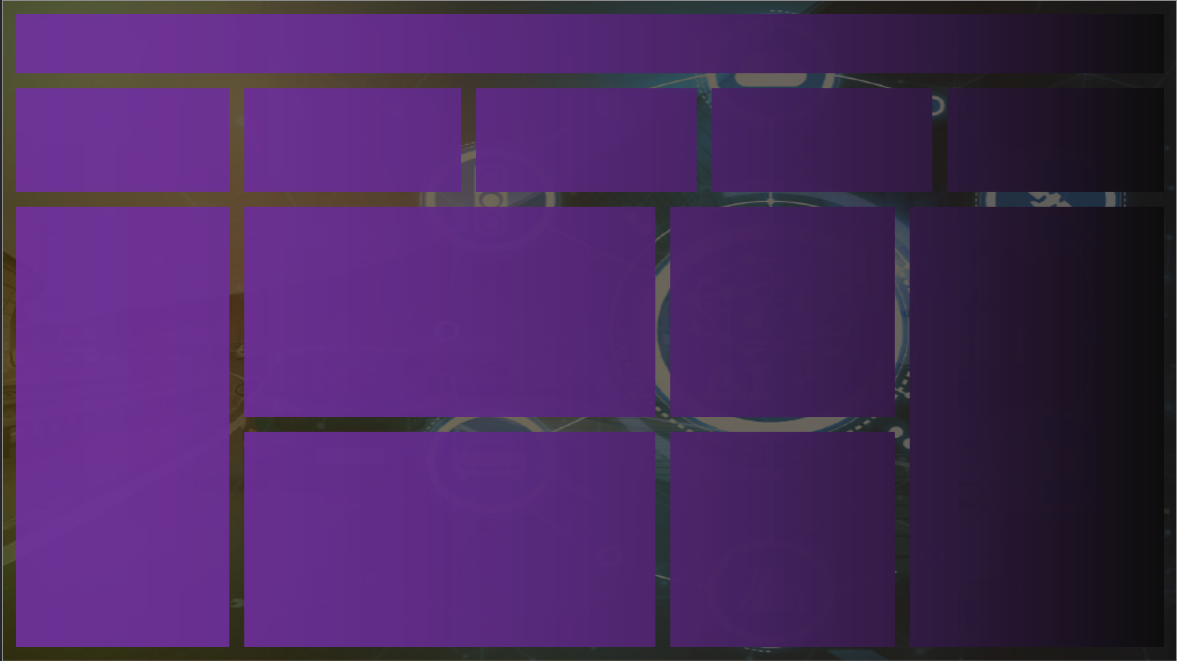

What the dashboard file says about the page in this screenshot:
{"tool":"powerbi","page":{"name":"Page 1","canvas":[1280,720],"ordinal":0},"visuals":[{"type":"card","title":"CY Slight Casualities","fields":{"Values":["Sheet1.CY Casualities"]},"box":[995.3,117.7,217.5,70],"z":0,"group":"g5"},{"type":"card","title":"CY Serious Casualities","fields":{"Values":["Sheet1.CY Casualities"]},"box":[759.5,118.2,217.5,70],"z":0,"group":"g4"},{"type":"group","id":"g1","title":"Group 1","box":[63.8,118.8,217.5,107.5],"z":0},{"type":"card","title":"Total CY Casualities","fields":{"Values":["Sheet1.CY Casualities"]},"box":[63.8,118.8,217.5,70],"z":0,"group":"g1"},{"type":"card","title":"Total CY Accidents","fields":{"Values":["Sheet1.CY accidents"]},"box":[292.4,118.8,217.5,70],"z":0,"group":"g2"},{"type":"card","title":"CY Fatal Casualities","fields":{"Values":["Sheet1.CY Casualities"]},"box":[531.1,118.8,217.5,70],"z":0,"group":"g3"},{"type":"group","id":"g2","title":"Group 1","box":[292.4,118.8,217.5,107.5],"z":1000},{"type":"card","fields":{"Values":["Sheet1.YOY Casualities"]},"box":[1051.5,181.5,100,43.8],"z":1000,"group":"g5"},{"type":"card","fields":{"Values":["Sheet1.YOY Casualities"]},"box":[815.7,182,100,43.8],"z":1000,"group":"g4"},{"type":"card","fields":{"Values":["Sheet1.YOY Casualities"]},"box":[120,182.6,100,43.8],"z":1000,"group":"g1"},{"type":"card","fields":{"Values":["Sheet1.YOY Accidents"]},"box":[348.6,182.6,100,43.8],"z":1000,"group":"g2"},{"type":"card","fields":{"Values":["Sheet1.YOY Casualities"]},"box":[587.3,182.6,100,43.8],"z":1000,"group":"g3"},{"type":"group","id":"g3","title":"Group 1","box":[531.1,118.8,217.7,107.8],"z":2000},{"type":"group","id":"g4","title":"Group 1","box":[759.5,118.2,218.5,108],"z":3000},{"type":"group","id":"g5","title":"Group 1","box":[995.3,117.7,217.4,107.6],"z":4000},{"type":"multiRowCard","fields":{"Values":["Sheet1.Vehicle_Type (groups)","Sheet1.CY Casualities"]},"box":[154,274.9,154,428.9],"z":5000},{"type":"image","box":[77,608.1,83.6,69.3],"z":6000},{"type":"image","box":[81.4,280.4,71.5,61.6],"z":7000},{"type":"image","box":[84.7,553.1,69.3,50.6],"z":8000},{"type":"image","box":[75.9,484.9,84.7,66],"z":9000},{"type":"image","box":[71.5,408,91.3,75.9],"z":10000},{"type":"image","box":[84.7,350.8,66,53.9],"z":11000},{"type":"textbox","box":[63.8,237.5,217.7,37.4],"z":12000},{"type":"areaChart","title":"CY Casualties & PY Casualties Montly Trend","fields":{"Category":["Calender.Month"],"Y":["Sum(Sheet1.Number_of_Casualties)"],"Series":["Calender.Date.Variation.Date Hierarchy.Year"]},"box":[300.2,237.5,398.1,201.2],"z":13000},{"type":"donutChart","title":"Casualities by Urban / Rural","fields":{"Y":["Sheet1.CY Casualities"],"Category":["Sheet1.Urban_or_Rural_Area"]},"box":[723.6,237.5,219.9,201.2],"z":14000},{"type":"donutChart","title":"Casualities by Light Condition","fields":{"Y":["Sheet1.CY Casualities"],"Category":["Sheet1.Light_Conditions (groups)"]},"box":[723.6,465.2,219.9,201.2],"z":15000},{"type":"barChart","title":"Casualities by Road_Type","fields":{"Y":["Sheet1.CY Casualities"],"Category":["Sheet1.Road_Type"]},"box":[300.2,465.2,406.9,212.2],"z":15001},{"type":"columnChart","title":"Casualities by WeatherConditions ","fields":{"Category":["Sheet1.Weather_Conditions (groups)"],"Y":["Sheet1.CY Casualities"]},"box":[962.2,241.9,247.4,428.9],"z":15002},{"type":"textbox","box":[71.5,38.5,534.4,60.5],"z":15003}]}

Visuals, with their boxes in screenshot pixels (x1, y1, x2, y2), scaled from the page's 1280x720 canvas onto the 1177x661 screenshot:
"CY Slight Casualities" card: bbox=(915, 108, 1115, 172)
"CY Serious Casualities" card: bbox=(698, 109, 898, 173)
"Group 1" group: bbox=(59, 109, 259, 208)
"Total CY Casualities" card: bbox=(59, 109, 259, 173)
"Total CY Accidents" card: bbox=(269, 109, 469, 173)
"CY Fatal Casualities" card: bbox=(488, 109, 688, 173)
"Group 1" group: bbox=(269, 109, 469, 208)
card - Sheet1.YOY Casualities: bbox=(967, 167, 1059, 207)
card - Sheet1.YOY Casualities: bbox=(750, 167, 842, 207)
card - Sheet1.YOY Casualities: bbox=(110, 168, 202, 208)
card - Sheet1.YOY Accidents: bbox=(321, 168, 413, 208)
card - Sheet1.YOY Casualities: bbox=(540, 168, 632, 208)
"Group 1" group: bbox=(488, 109, 689, 208)
"Group 1" group: bbox=(698, 109, 899, 208)
"Group 1" group: bbox=(915, 108, 1115, 207)
multiRowCard - Sheet1.Vehicle_Type (groups) x Sheet1.CY Casualities: bbox=(142, 252, 283, 646)
image: bbox=(71, 558, 148, 622)
image: bbox=(75, 257, 141, 314)
image: bbox=(78, 508, 142, 554)
image: bbox=(70, 445, 148, 506)
image: bbox=(66, 375, 150, 444)
image: bbox=(78, 322, 139, 372)
textbox: bbox=(59, 218, 259, 252)
"CY Casualties & PY Casualties Montly Trend" areaChart: bbox=(276, 218, 642, 403)
"Casualities by Urban / Rural" donutChart: bbox=(665, 218, 868, 403)
"Casualities by Light Condition" donutChart: bbox=(665, 427, 868, 612)
"Casualities by Road_Type" barChart: bbox=(276, 427, 650, 622)
"Casualities by WeatherConditions " columnChart: bbox=(885, 222, 1112, 616)
textbox: bbox=(66, 35, 557, 91)
